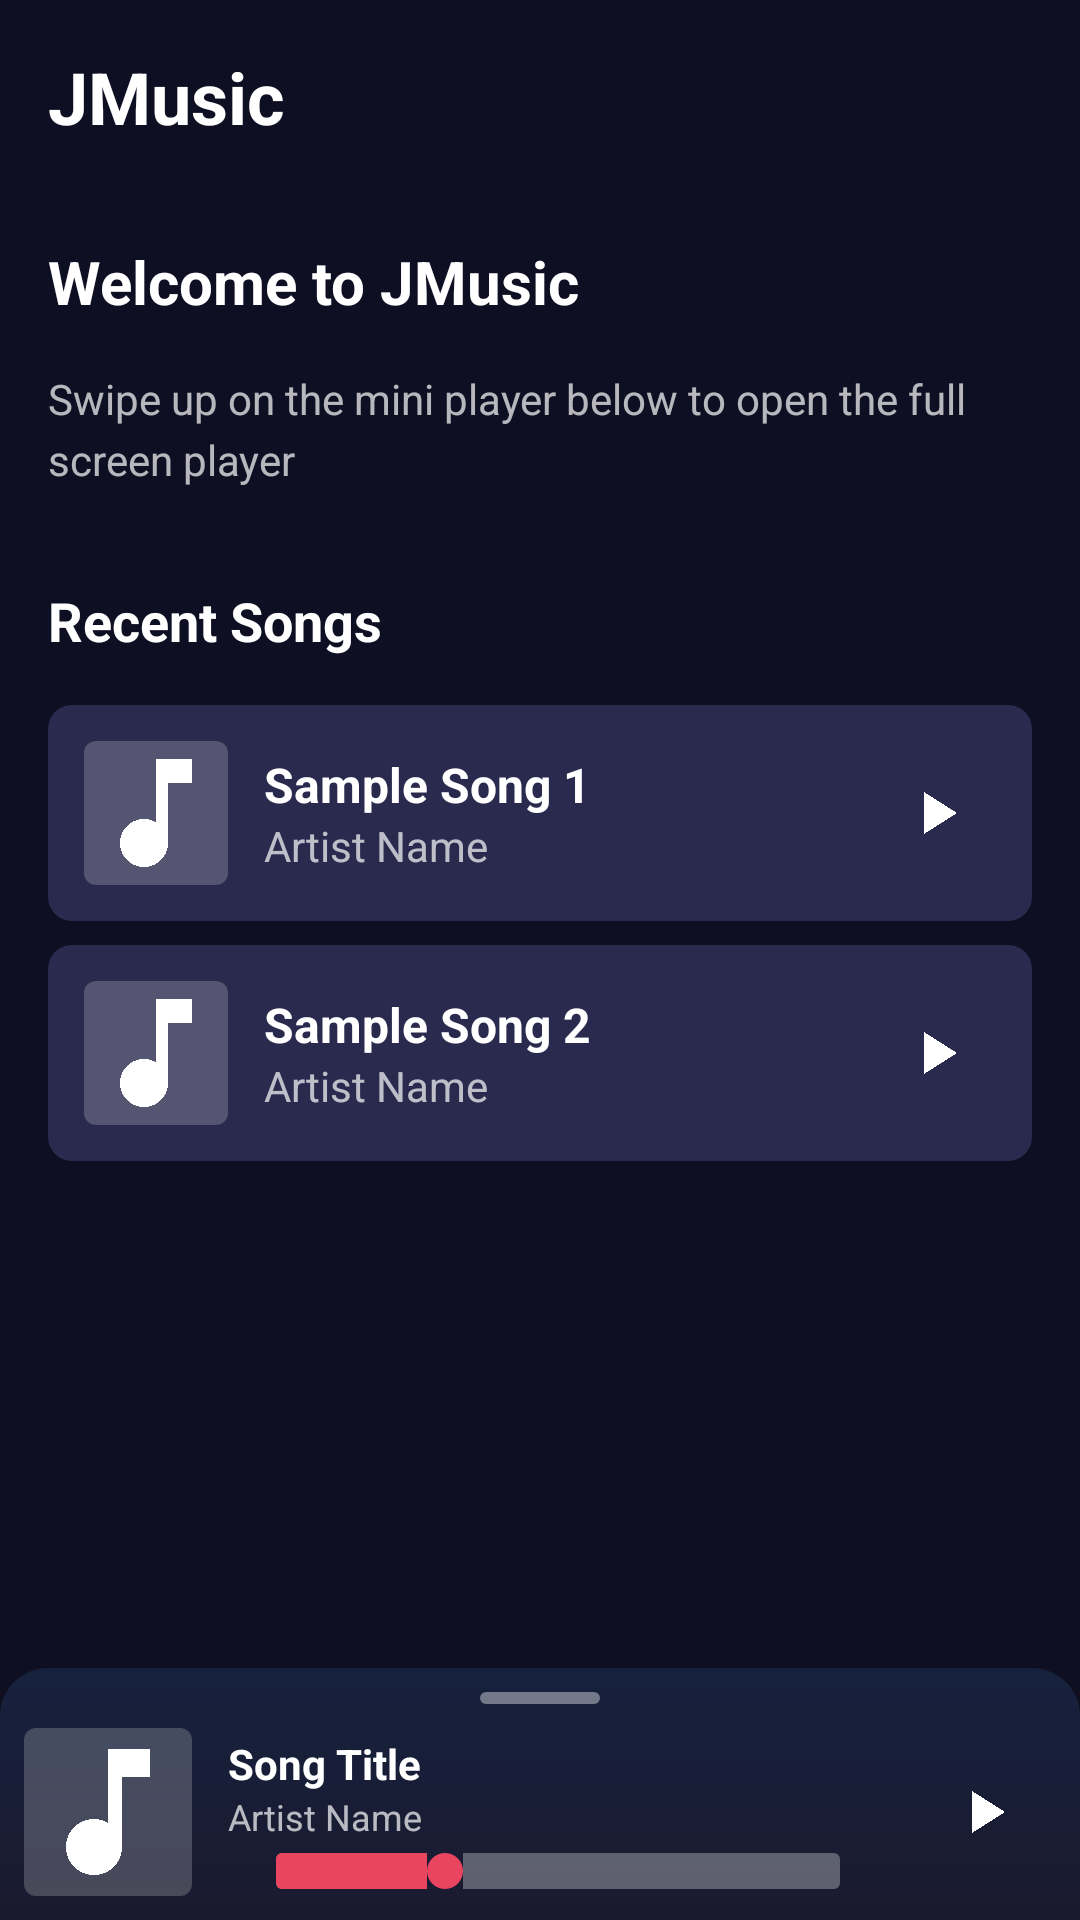

Screen size 1080×1920. Icon name, then its box in pixels as (x1, y1, x2, y2):
Album Art: (84, 741, 228, 885), (84, 981, 228, 1125), (24, 1728, 192, 1896)
Play: (924, 792, 956, 834), (924, 1032, 956, 1074)
Play/Pause: (972, 1791, 1004, 1833)
